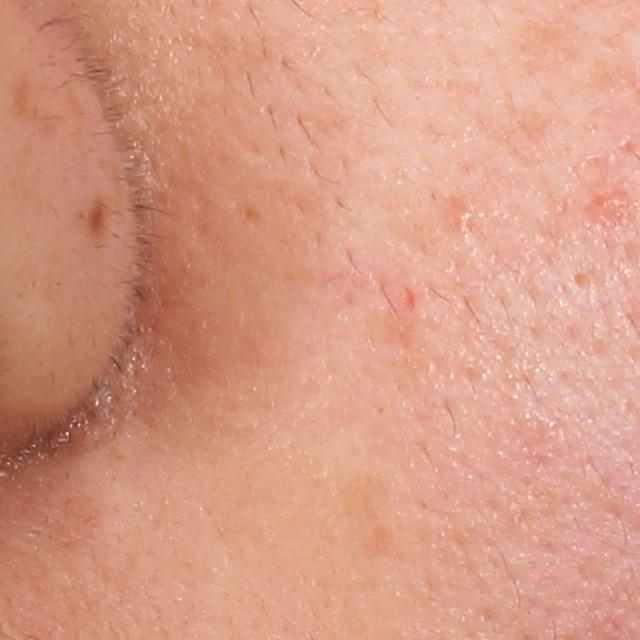comedo: (565, 269, 597, 300), (449, 203, 476, 237)
melasma: (10, 60, 61, 137), (86, 196, 112, 240)
